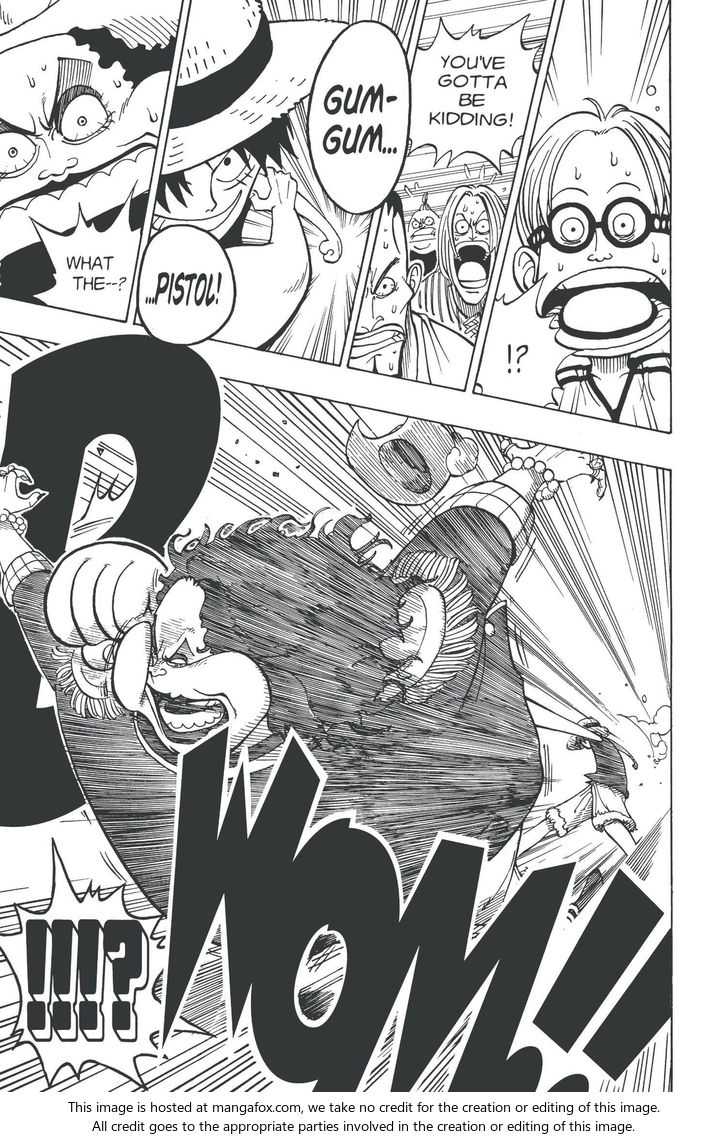bubble: (0, 841, 167, 1090), (409, 14, 540, 173), (309, 20, 412, 215), (31, 183, 142, 322), (475, 274, 581, 409), (135, 226, 238, 345)
